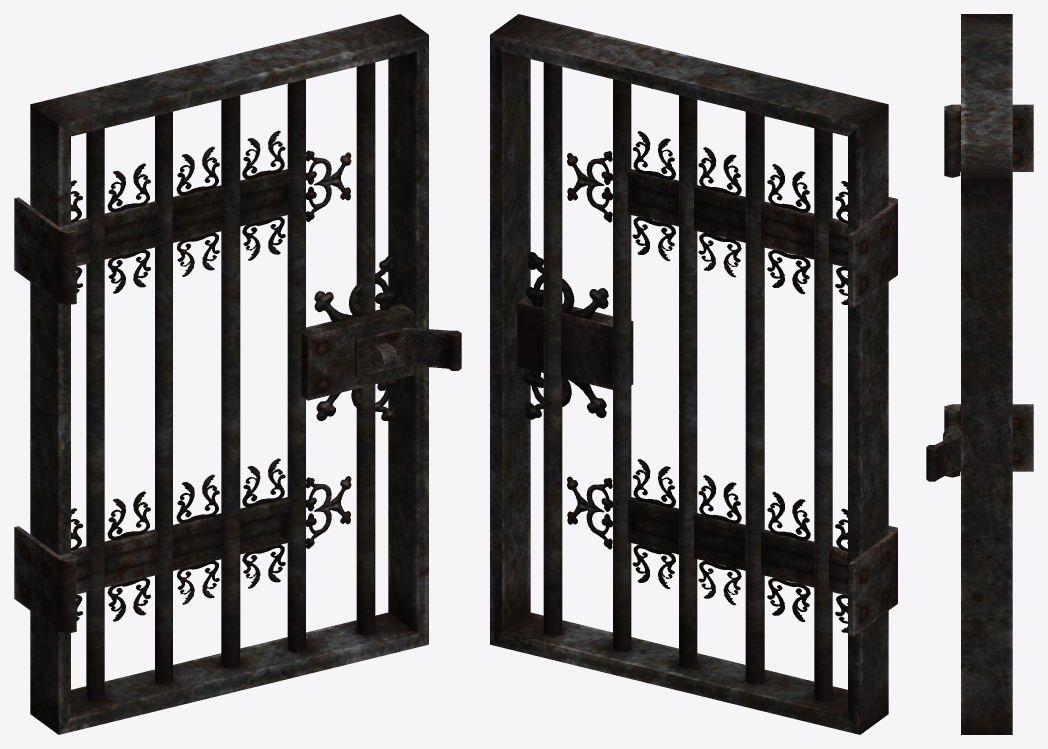
The model's file is prison_section.dae.
The picture shows the model from 3 angles, left to right: view 1: azimuth 30°, elevation 25°; view 2: azimuth 150°, elevation 25°; view 3: azimuth 270°, elevation 25°; orthographic projection. The views are drawn at different scales.
Visible parts, largest first — view 1: door, hinge, lockholder; view 2: door, hinge; view 3: door, hinge, lockholder.
Boxes of the visible parts, <box> form: door: <box>30,14,428,734</box>; hinge: <box>14,197,76,633</box>; lockholder: <box>354,327,461,376</box>; door: <box>490,14,888,734</box>; hinge: <box>848,197,897,636</box>; door: <box>943,14,1012,734</box>; hinge: <box>944,104,1033,477</box>; lockholder: <box>926,432,960,481</box>.
Bounding box in the file's own units: 1.84 × 2.75 × 0.4814.
